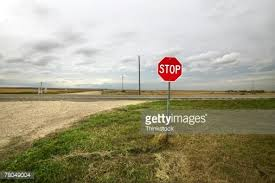stop_sign: (157, 56, 183, 82)
